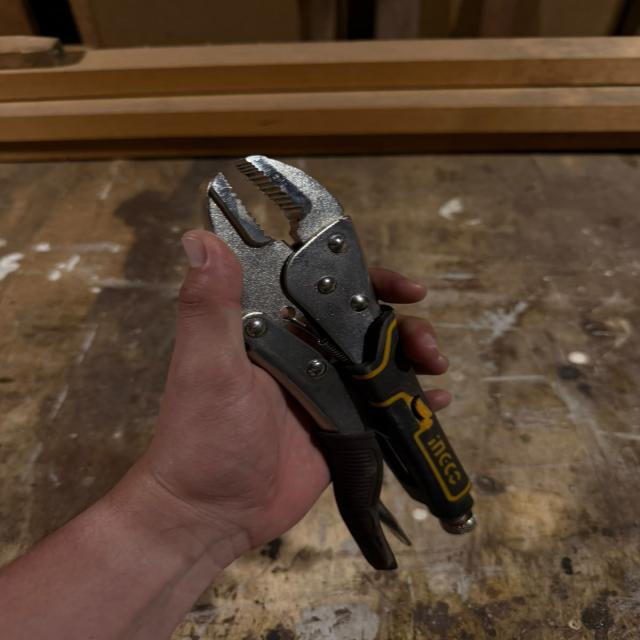PinzasPresion: (155, 102, 520, 600)
